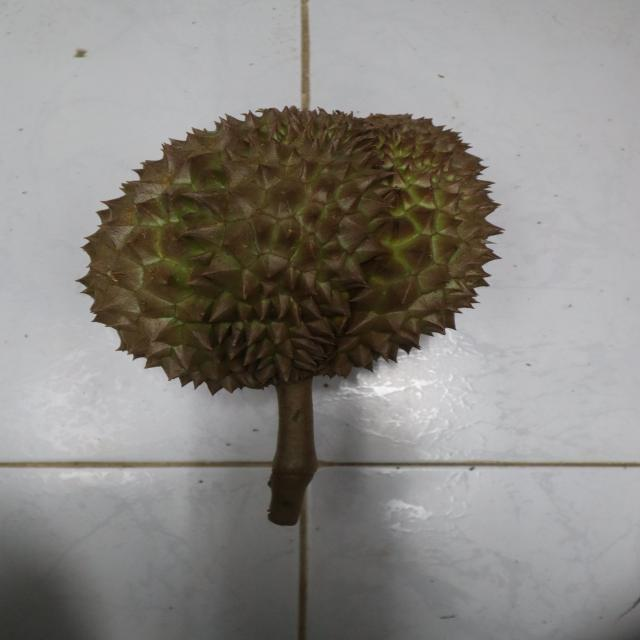mature: (77, 107, 506, 393)
